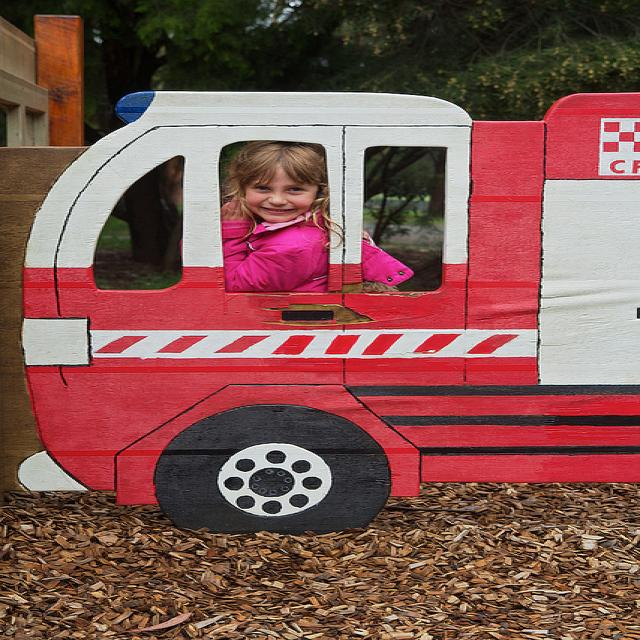Vehicle: (17, 89, 640, 534)
